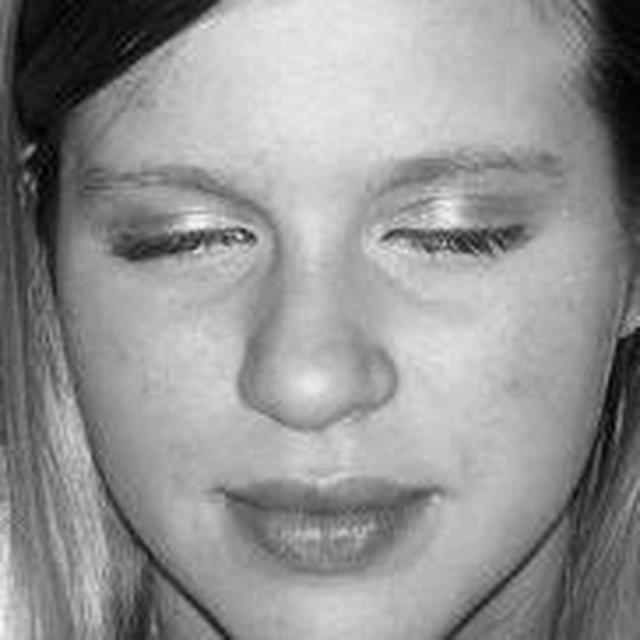real: (51, 0, 640, 640), (76, 152, 572, 314)
